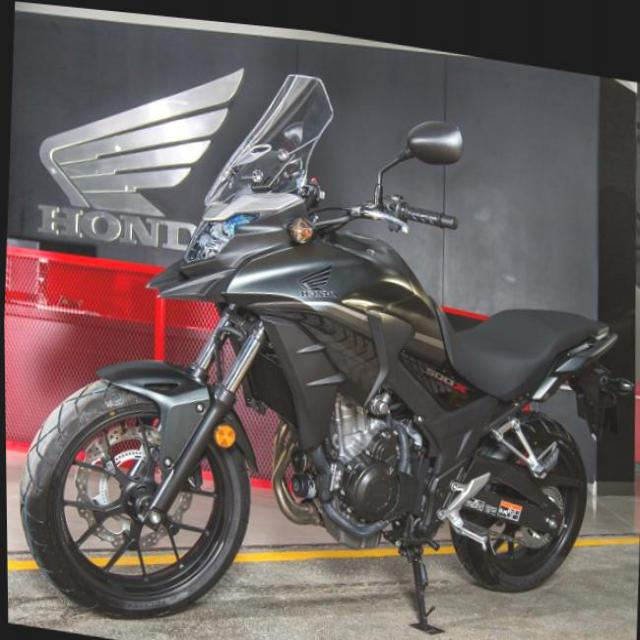CB500X: (6, 27, 632, 639)
